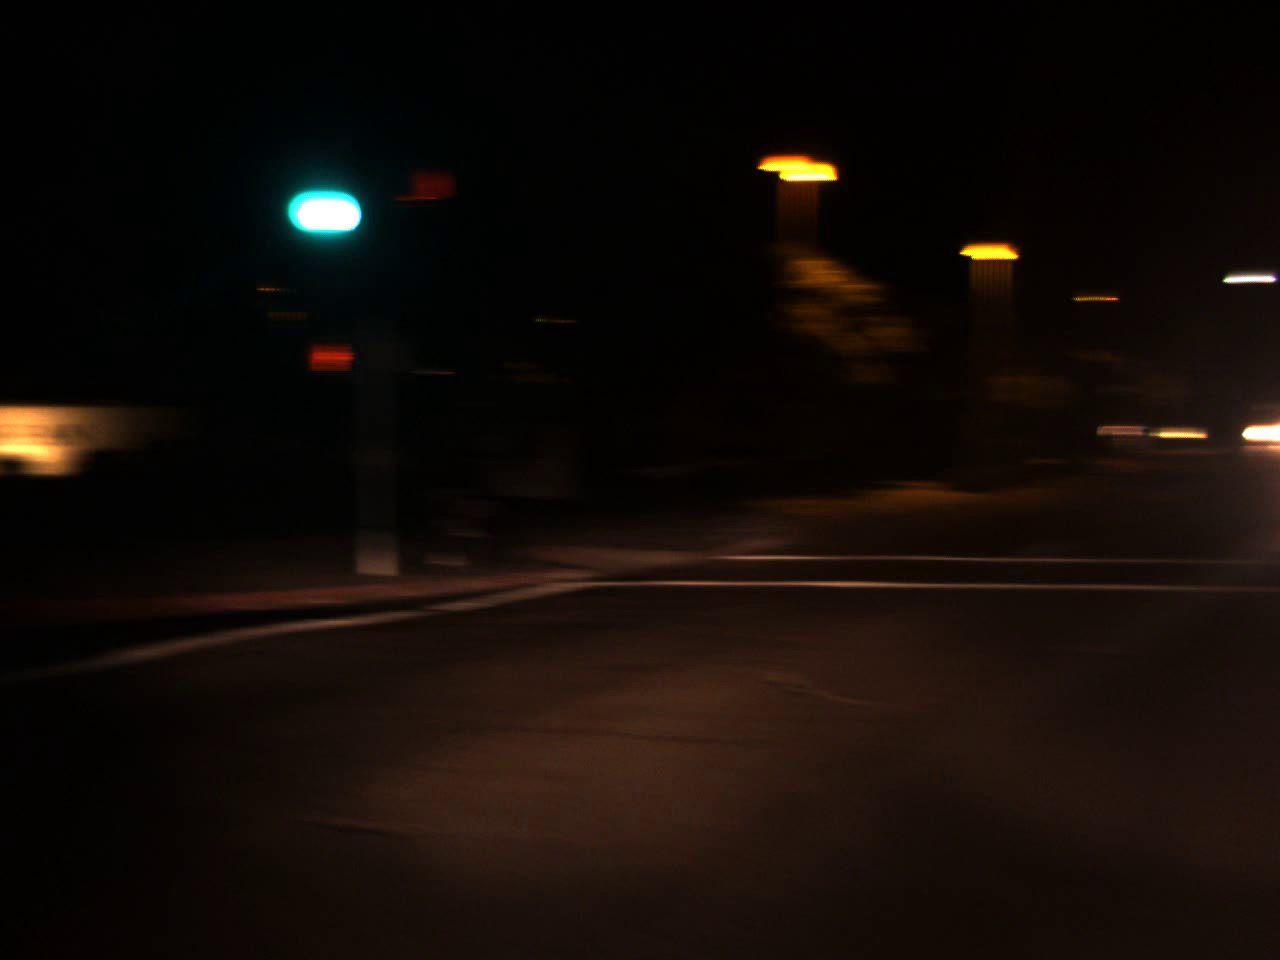go: (286, 146, 354, 245)
